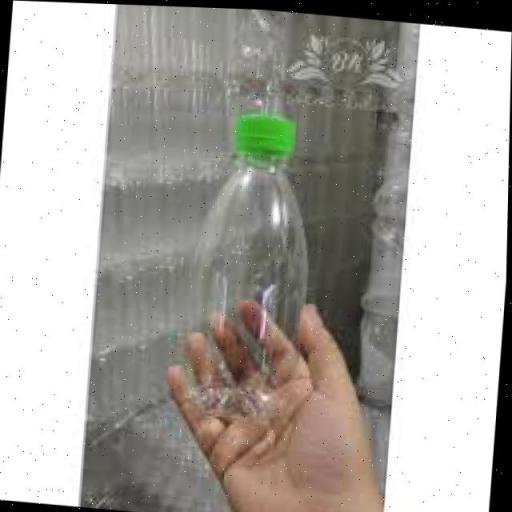plastic: (178, 107, 324, 427)
